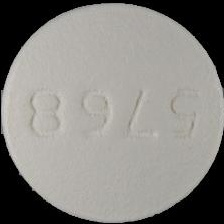61786-519: (0, 0, 224, 224)
